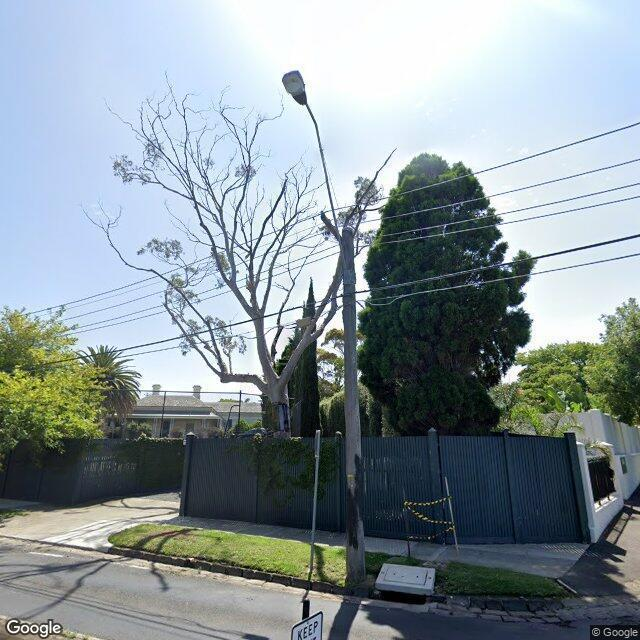streetlight: (281, 70, 352, 285)
timber-pole: (341, 227, 366, 583)
